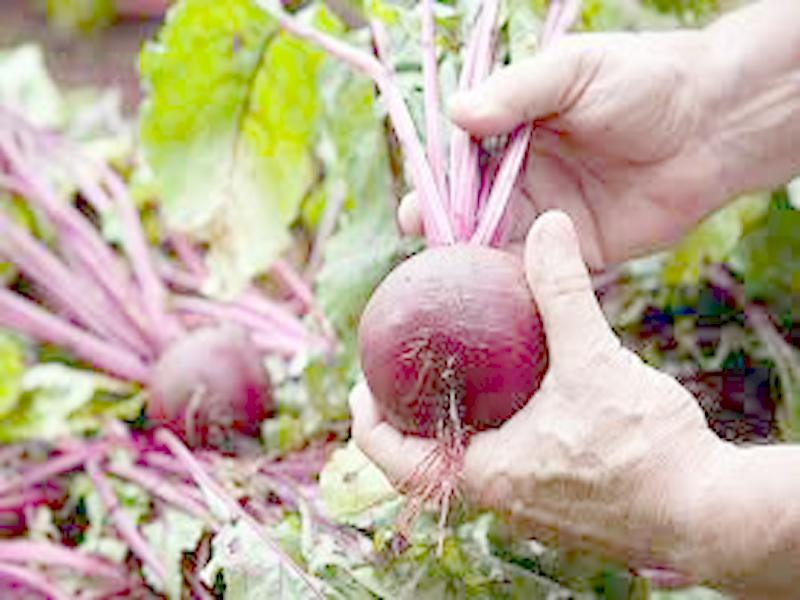Beet: (253, 3, 553, 439)
